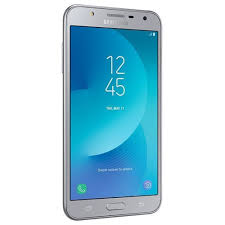samsung: (61, 1, 163, 221)
